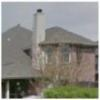chimneys: (32, 8, 46, 72)
